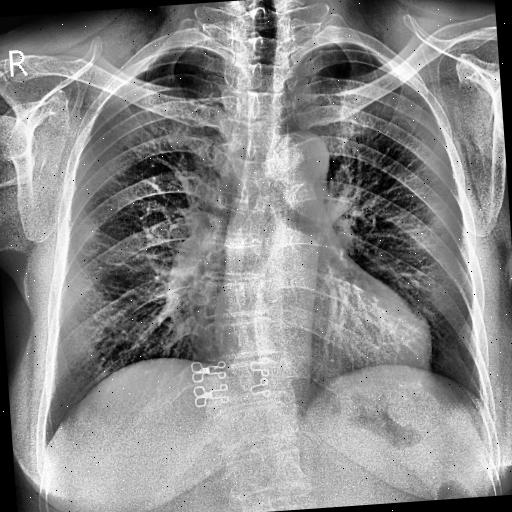0- Aortic enlargement: (267, 128, 329, 206), (268, 127, 332, 194), (276, 128, 330, 188)
11- Pleural thickening: (304, 42, 338, 54)
12- Pneumothorax: (128, 48, 174, 72)
3- Cardiomegaly: (210, 274, 432, 386), (210, 282, 432, 386), (210, 304, 436, 390)
